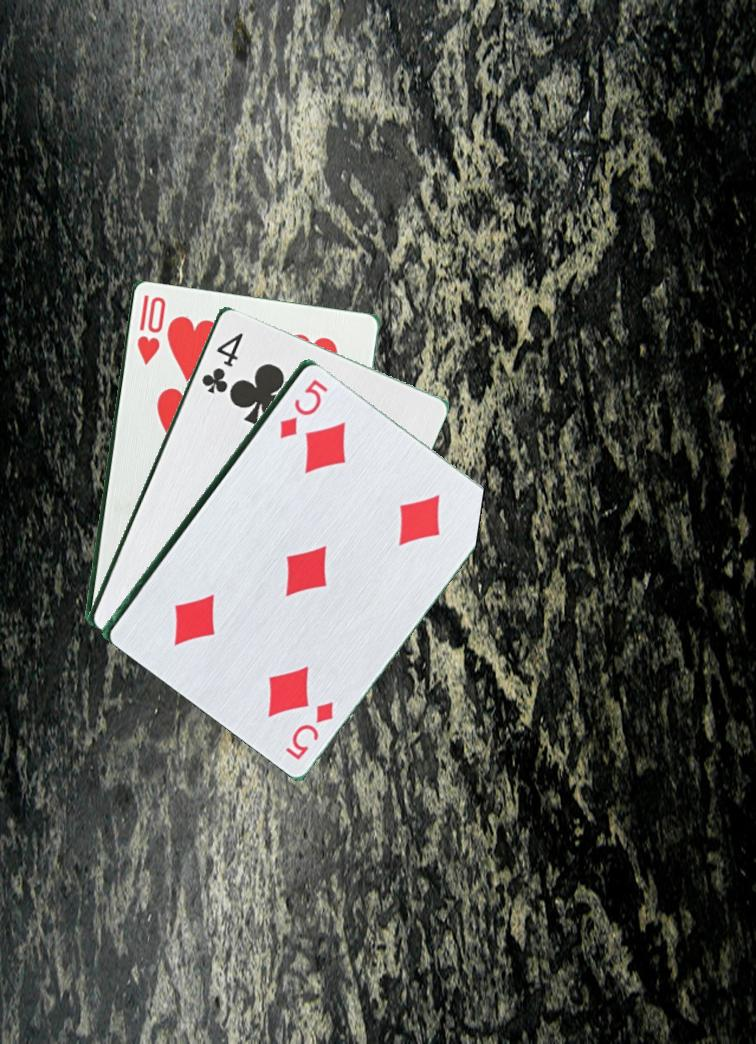4c: (197, 328, 246, 399)
5d: (281, 697, 337, 763), (275, 374, 329, 441)
th: (133, 290, 167, 367)
